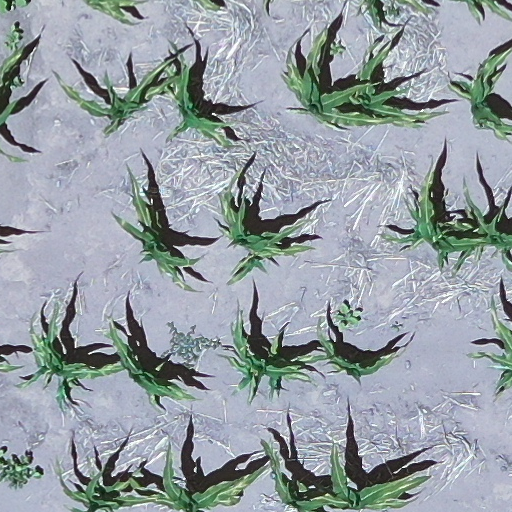planta: (281, 25, 405, 131), (376, 158, 487, 275), (15, 302, 128, 415), (111, 163, 205, 293), (216, 168, 319, 286), (55, 56, 182, 139), (219, 304, 319, 405), (296, 438, 433, 511), (107, 313, 200, 414), (350, 38, 448, 128), (161, 52, 241, 147), (289, 319, 395, 380)
